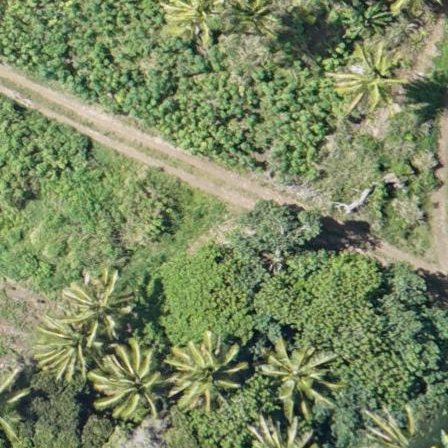palm_tree: (169, 336, 242, 424), (329, 40, 410, 119), (258, 337, 334, 414), (62, 263, 137, 341), (94, 341, 168, 420), (37, 318, 103, 380), (160, 1, 218, 41)
